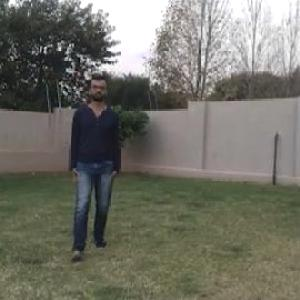follow: (69, 68, 115, 254)
